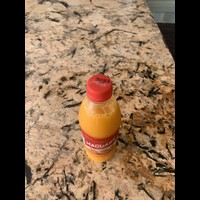maguary: (76, 72, 123, 166)
